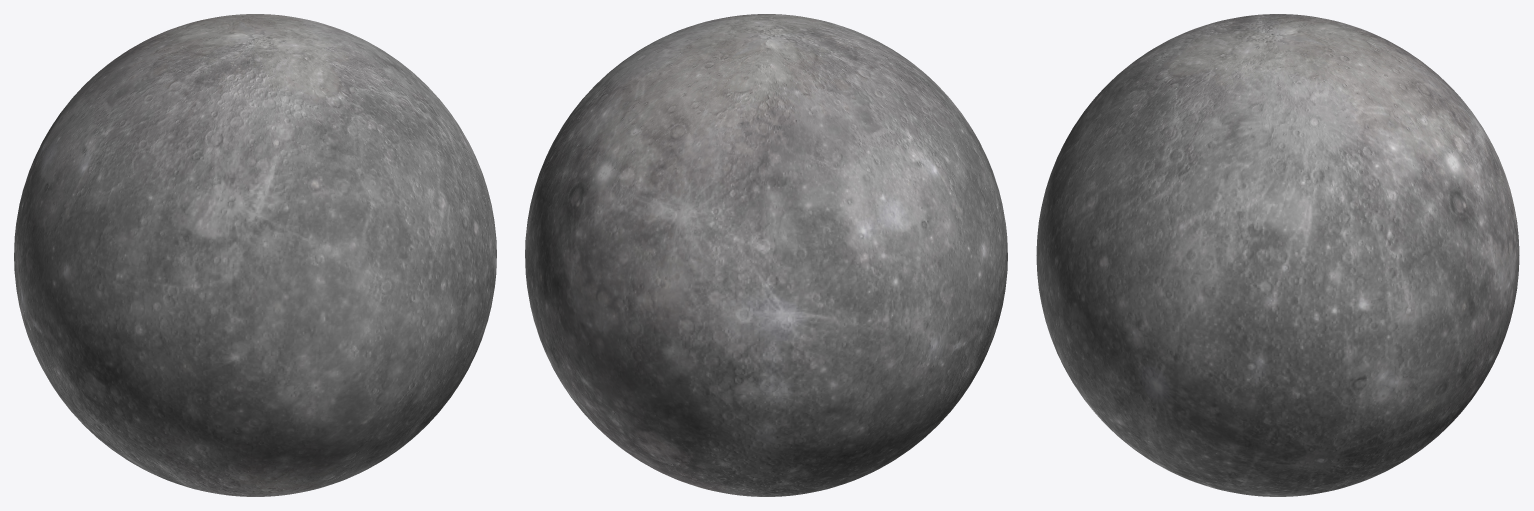
File: mercury.gltf
3 views of the same model, side by side, from view 1: azimuth 30°, elevation 25°; view 2: azimuth 150°, elevation 25°; view 3: azimuth 270°, elevation 25° (orthographic).
Visible parts, largest first — view 1: Sphere; view 2: Sphere; view 3: Sphere.
Part boxes in pixels (bbox=[...]): Sphere: bbox=[14, 14, 496, 496]; Sphere: bbox=[525, 14, 1007, 496]; Sphere: bbox=[1036, 14, 1519, 496].
Size of the model in its own units: 2 by 2 by 2.
1 material, 1 textured.
